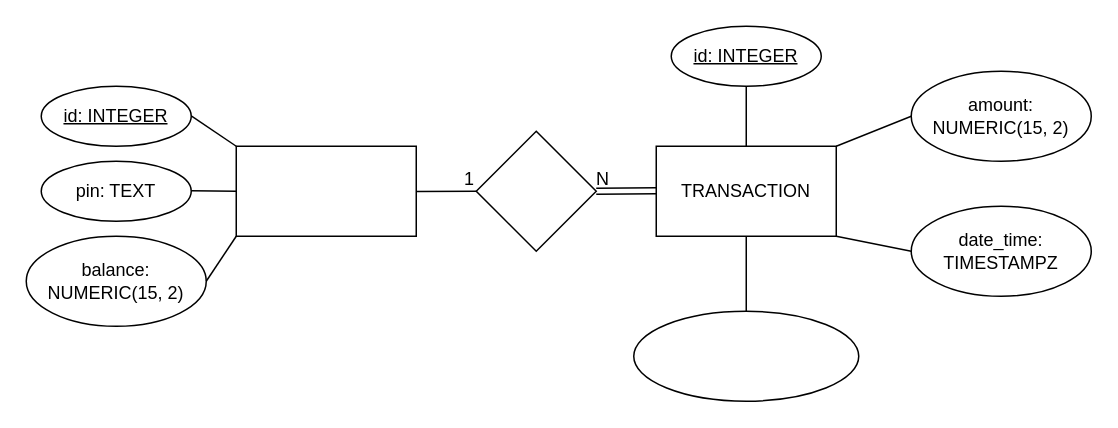
Some shapes in this 1118 by 428 pixel diagram are drawn without their labels. Each missing label, with the centre of its shape:
"ACCOUNT" belongs at (x=325, y=190).
"HAS" belongs at (x=535, y=190).
"type: TRANSACTION_TYPE" belongs at (x=745, y=355).
